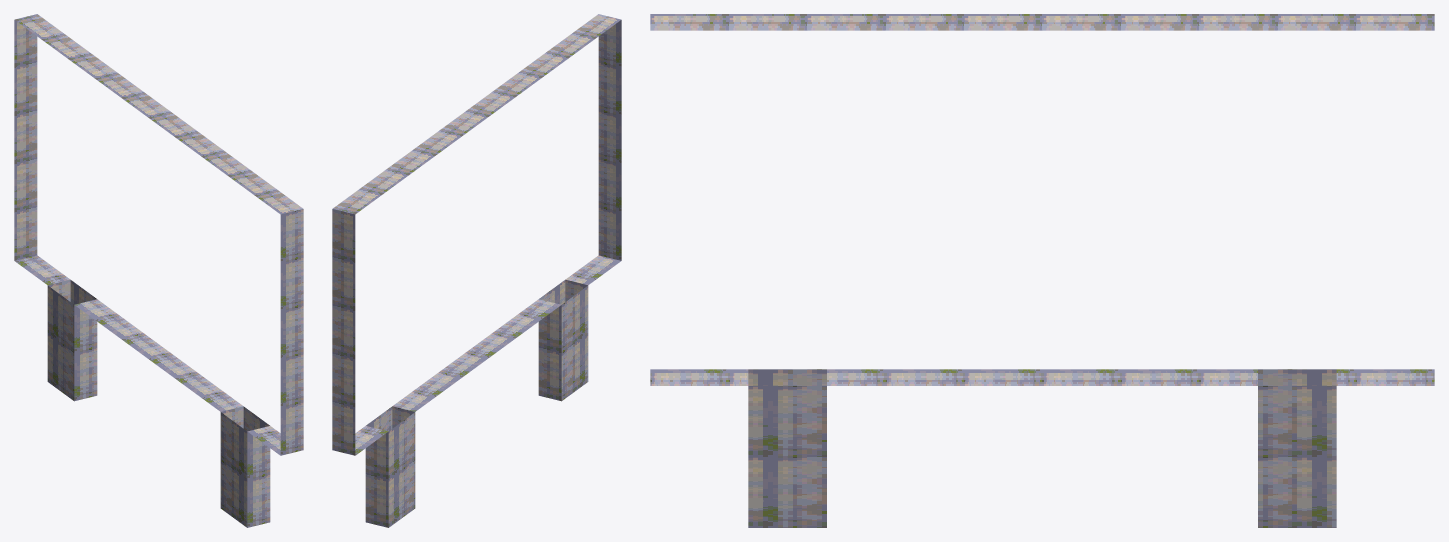
Rendered from Billboard.fbx.
3 renders of one model, left to right at view 1: azimuth 30°, elevation 25°; view 2: azimuth 150°, elevation 25°; view 3: azimuth 270°, elevation 25°, orthographic. The views are drawn at different scales.
Parts seen in each view (by area): view 1: Billboard; view 2: Billboard; view 3: Billboard.
Part boxes in pixels (left/top/right/bottom): Billboard: left=14, top=14, right=303, bottom=527; Billboard: left=332, top=14, right=621, bottom=527; Billboard: left=650, top=14, right=1434, bottom=527.
Bounding box in the file's own units: 5000 × 70002 × 100004.
